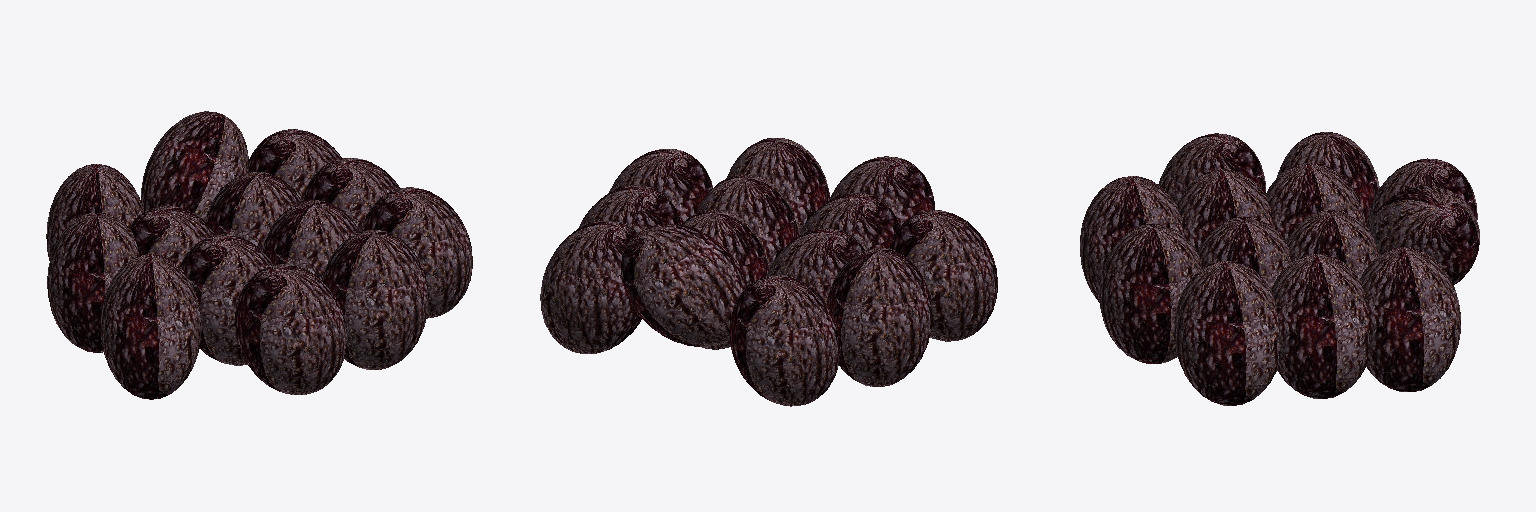
The picture shows the model from 3 angles: view 1: azimuth 30°, elevation 25°; view 2: azimuth 150°, elevation 25°; view 3: azimuth 270°, elevation 25°; orthographic projection.
Visible parts, largest first — view 1: Esfera.014_Material.012; view 2: Esfera.014_Material.012; view 3: Esfera.014_Material.012.
Boxes of the visible parts, x1,y1,x2,y2 form: Esfera.014_Material.012: [46, 111, 472, 399]; Esfera.014_Material.012: [540, 138, 997, 406]; Esfera.014_Material.012: [1080, 132, 1479, 405].
Size of the model in its own units: 0.3044 by 0.1221 by 0.2856.
Materials: 1 (1 with a texture image).